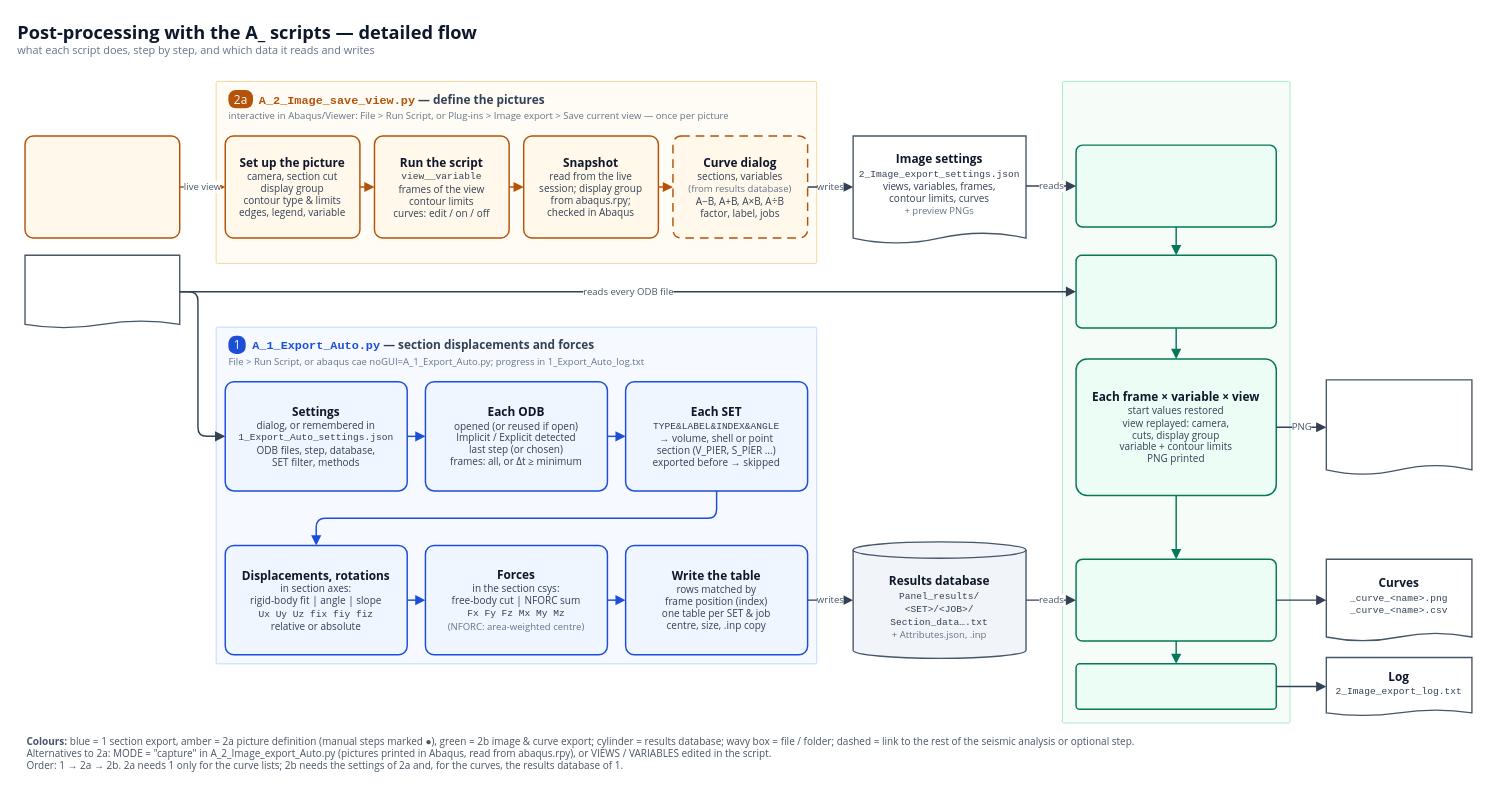
Image size: 1496x799. Some labels were removed from this diagram. Each missing label, with the box of its shape:
2b A_2_Image_export_Auto.py images and curves, every job: (1062, 81, 1290, 723)
Curves results database read X, Y of the sections image frames marked: (1075, 558, 1277, 641)
Each ODB frames per view (+ frames around the peak): (1075, 254, 1277, 328)
Finish optional ZIP per job: (1075, 663, 1277, 710)
Images Panel_images/ <JOB>/<var>/<view>/ f0012_t1.2.png: (1325, 379, 1472, 475)
Load the settings latest change wins; frames & limits checked: (1075, 144, 1277, 227)
ODB files one per job (from the analyses): (24, 254, 180, 328)
● Abaqus/Viewer one ODB open; the engineer sets up each picture: (24, 135, 180, 238)
